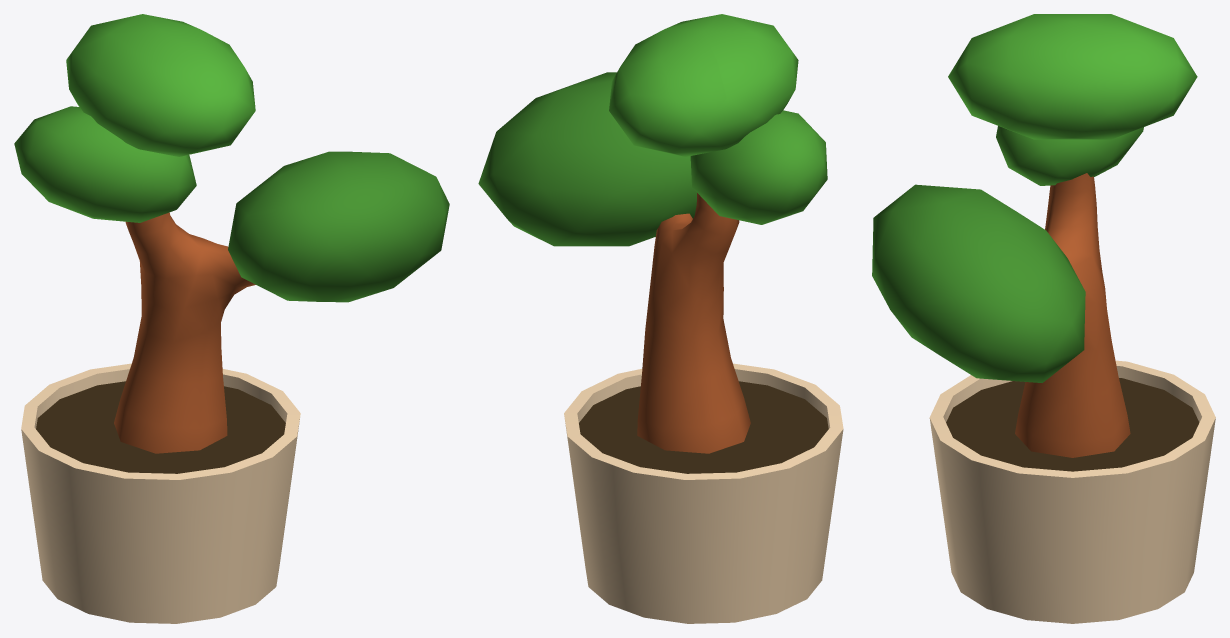
The model's file is Plant2.fbx.
The picture shows the model from 3 angles, left to right: view 1: azimuth 30°, elevation 25°; view 2: azimuth 150°, elevation 25°; view 3: azimuth 270°, elevation 25°; orthographic projection.
Visible parts, largest first — view 1: Prop_Homeplant_07; view 2: Prop_Homeplant_07; view 3: Prop_Homeplant_07.
Part boxes in pixels (left/top/right/bottom): Prop_Homeplant_07: left=14, top=14, right=449, bottom=623; Prop_Homeplant_07: left=478, top=14, right=843, bottom=623; Prop_Homeplant_07: left=872, top=14, right=1215, bottom=623.
Size of the model in its own units: 60.59 by 84.85 by 48.01.
